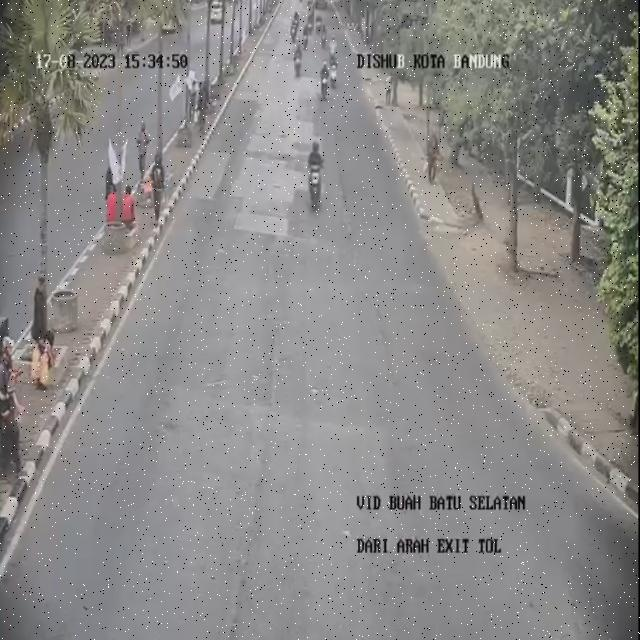motorcycle: (304, 130, 326, 212), (329, 52, 342, 92), (320, 60, 329, 100), (294, 44, 302, 80), (330, 34, 337, 60), (290, 17, 296, 47), (302, 24, 308, 51), (321, 23, 327, 49), (308, 11, 314, 35), (316, 13, 322, 33)
